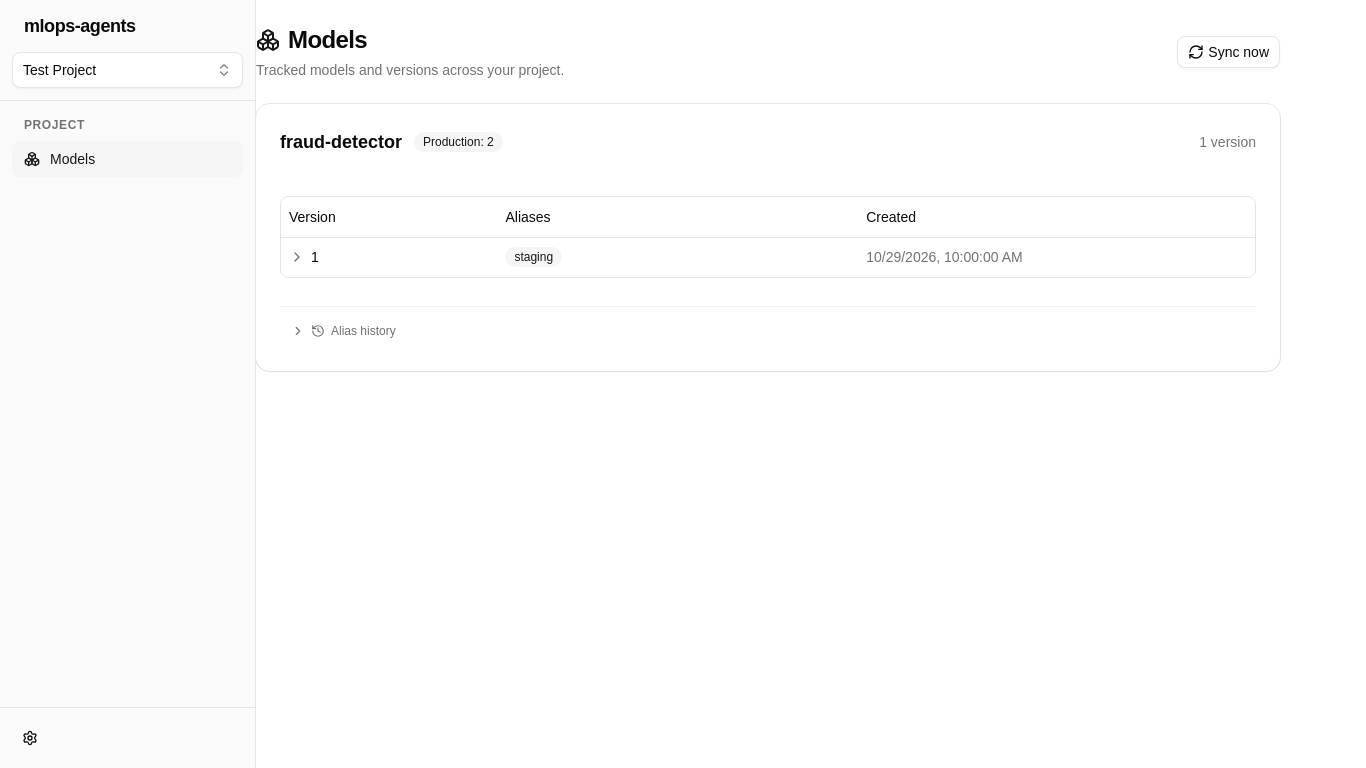
Test case: TrackedModelsPage › shows a baseline row as the starting champion, not as a deploy
This screenshot has width=1366, height=768.
Expected: the text "fraud-detector" is shown, x1=280 y1=128 x2=402 y2=156
Click the button "Alias history" at (343, 331), box x1=280 y1=315 x2=407 y2=347
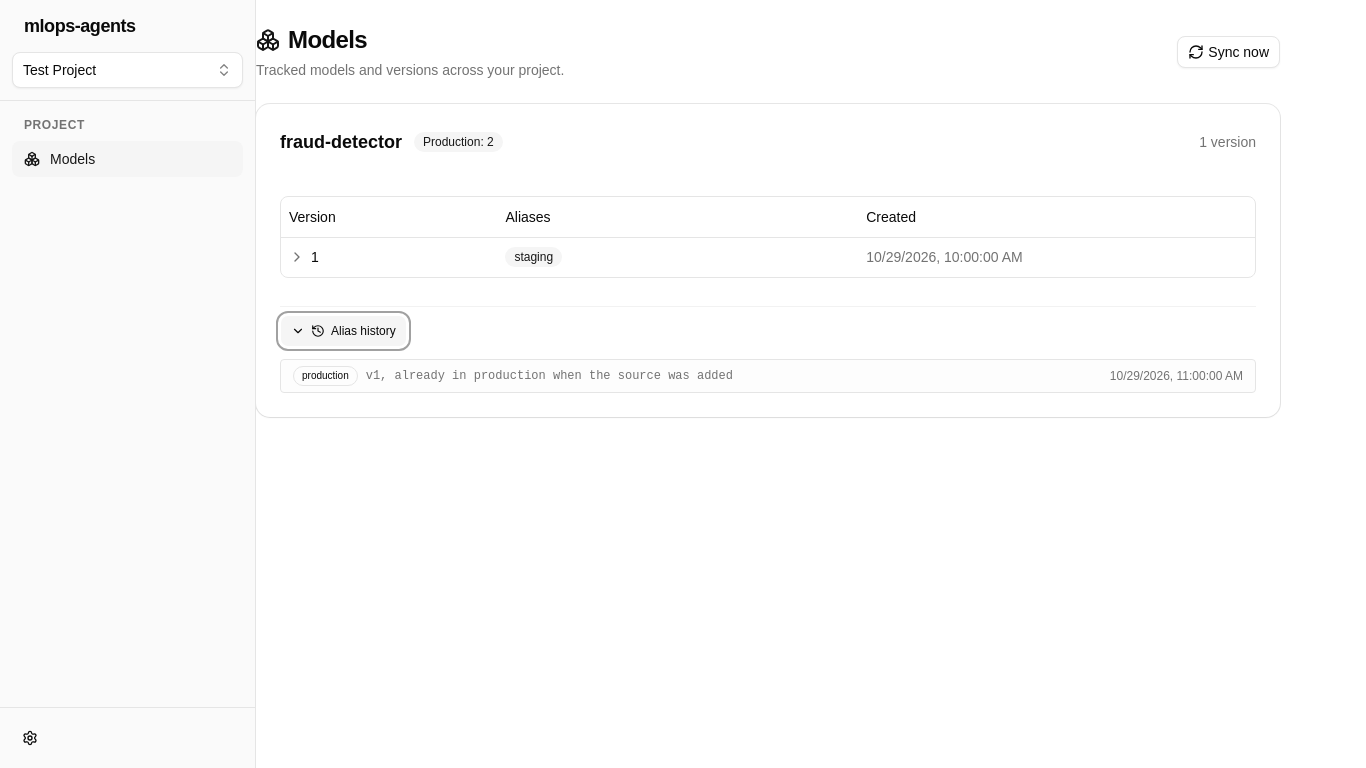
Now the text "v1, already in production when the source was added" is shown, box x1=366 y1=368 x2=733 y2=384
